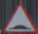Speed Breaker ahead: (2, 1, 35, 33)
